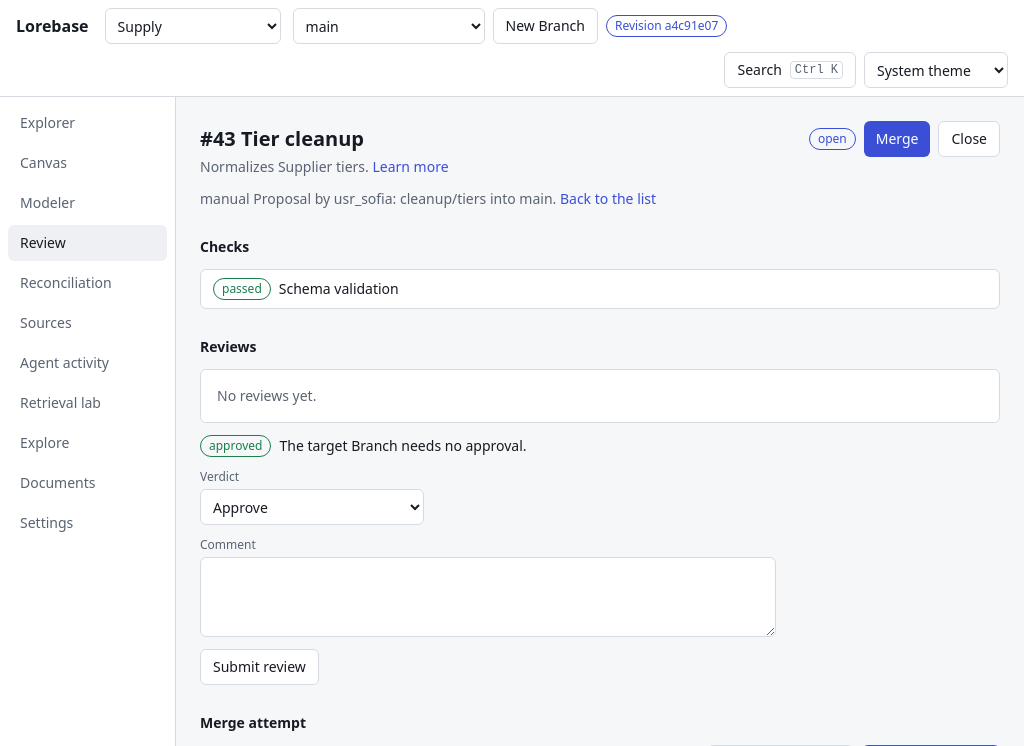
Test: Review › does not merge while Conflicts are unresolved
Expected: the heading "#43 Tier cleanup" is shown, top-left (200, 125), bottom-right (364, 152)
Click the button "Merge" at x=897, y=139, box top-left (864, 121), bottom-right (930, 157)
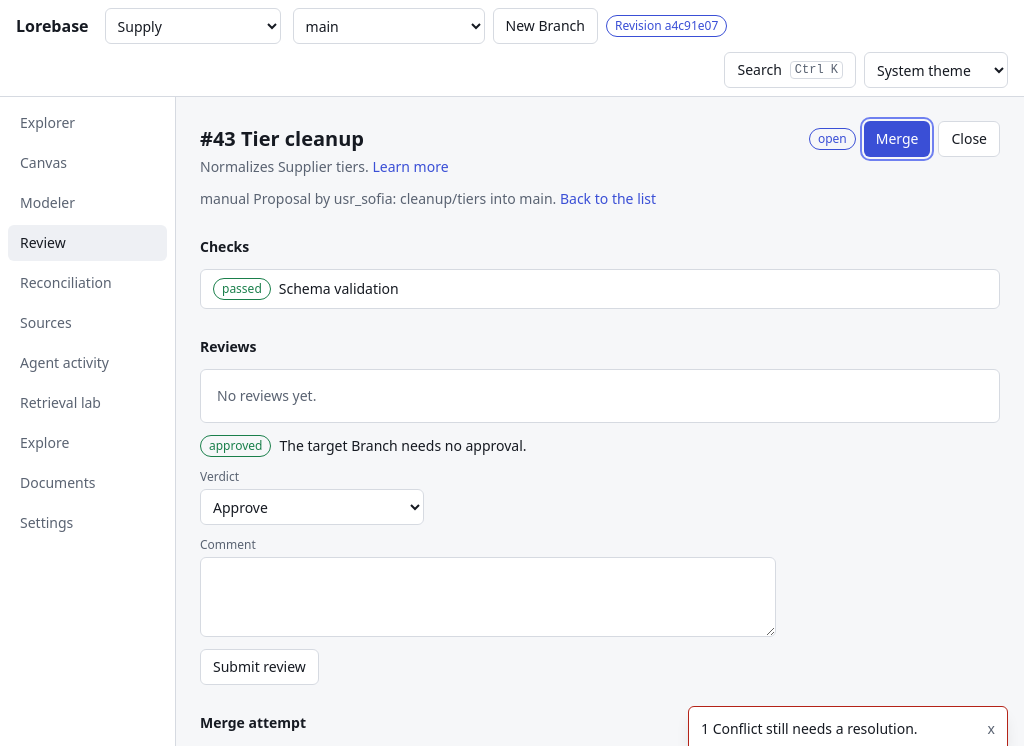
Expected: the message shows "1 Conflict still needs a resolution.", top-left (701, 719), bottom-right (918, 738)
